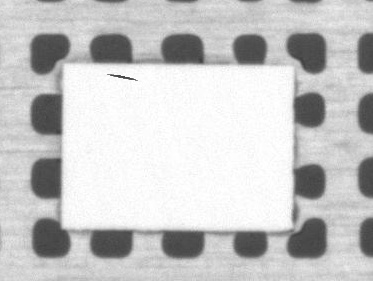DIE_INK: (139, 54, 186, 62)
